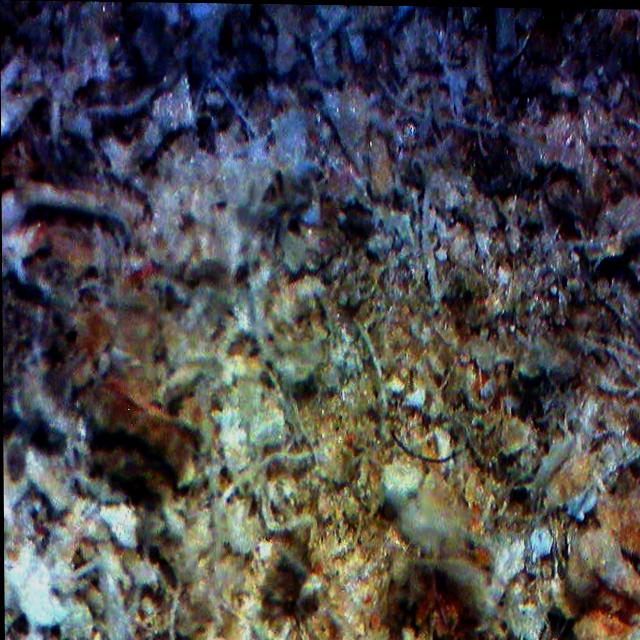microplastic: (388, 430, 458, 461)
